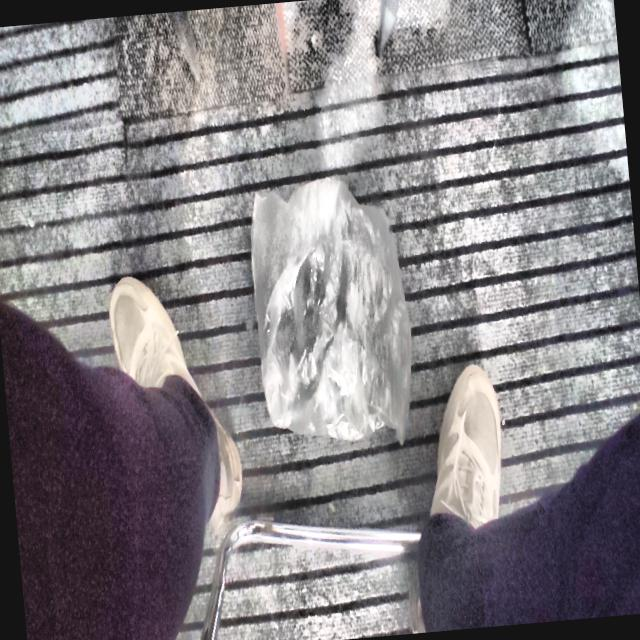plastic bag: (251, 176, 411, 440)
